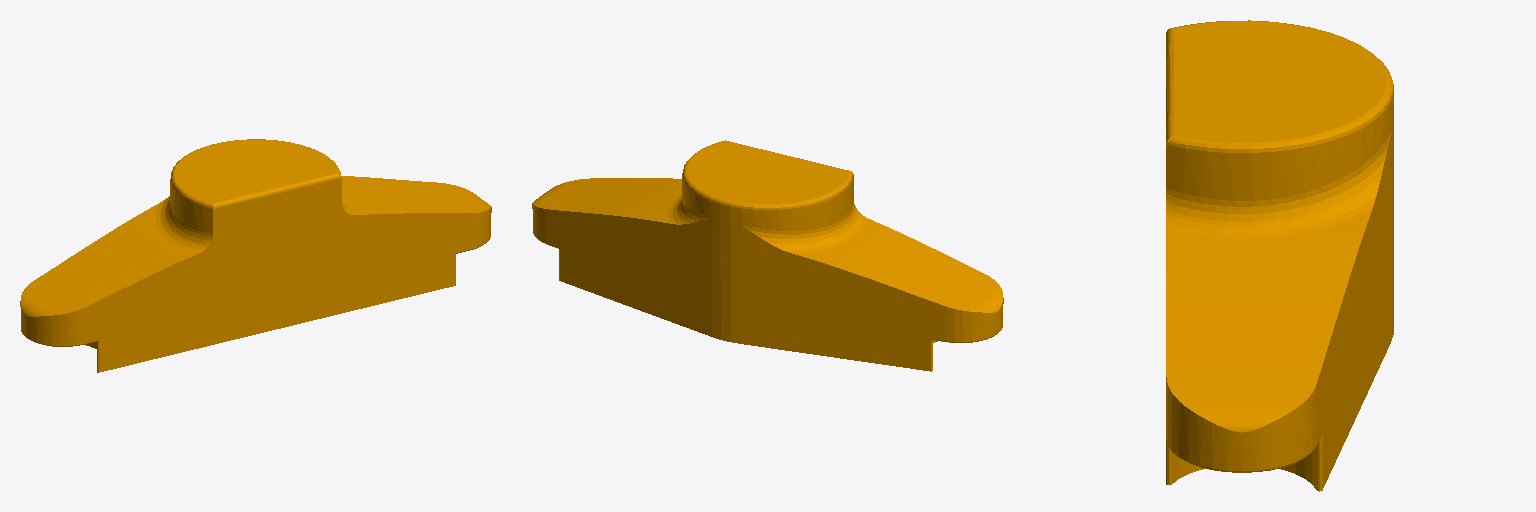
URDF robot description (rockerarm):
<?xml version="1.0" ?>
<robot name="rockerarm">
    <link name="baseLink">
        <contact>
            <lateral_friction value="0.3"/>
            <rolling_friction value="0.0"/>
            <contact_cfm value="0.0"/>
            <contact_erp value="1.0"/>
        </contact>

        <inertial>
            <origin xyz="1.971815600057546e-07 0.006512009975939589 0.007435866018652759" rpy="0 0 0"/>
            <mass value="0.07069102494620168"/>
            <inertia ixx="3e-06" iyy="1.3e-05" izz="1.3e-05" ixy="-0.0" iyz="-0.0" ixz="0.0"/>
        </inertial>
        <visual>
            <origin xyz="0 0 0" rpy="0 0 0"/>
            <geometry>
                <mesh filename="rockerarm.stl" scale="0.001 0.001 0.001"/>
            </geometry>
            <material name="silver"/>
        </visual>
        <collision>
            <origin xyz="0 0 0" rpy="0 0 0"/>
            <geometry>
                <mesh filename="rockerarm.stl" scale="0.001 0.001 0.001"/>
            </geometry>
        </collision>
    </link>
</robot>

--- What the picture shows (computed from the rendered views, not written in the file) ---
Views: 3 orthographic renders of the robot side by side, from view 1: azimuth 30°, elevation 25°; view 2: azimuth 150°, elevation 25°; view 3: azimuth 270°, elevation 25°.
Robot: rockerarm — 1 links, 0 joints (none); root link baseLink; default pose: every joint at zero.
Visible links, largest first — view 1: baseLink; view 2: baseLink; view 3: baseLink.
Link boxes in pixels (x1=…): baseLink: x1=20, y1=139, x2=491, y2=372; baseLink: x1=532, y1=140, x2=1003, y2=371; baseLink: x1=1166, y1=20, x2=1393, y2=491.
Bounding box of the posed robot: 0.062 × 0.015 × 0.018 m (x, y, z).
1 mesh visuals loaded from 1 distinct referenced files (1 binary STL).